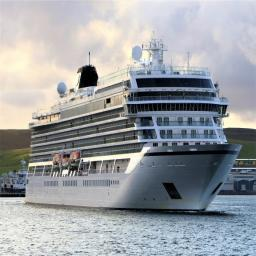cruises: (21, 38, 244, 220)
